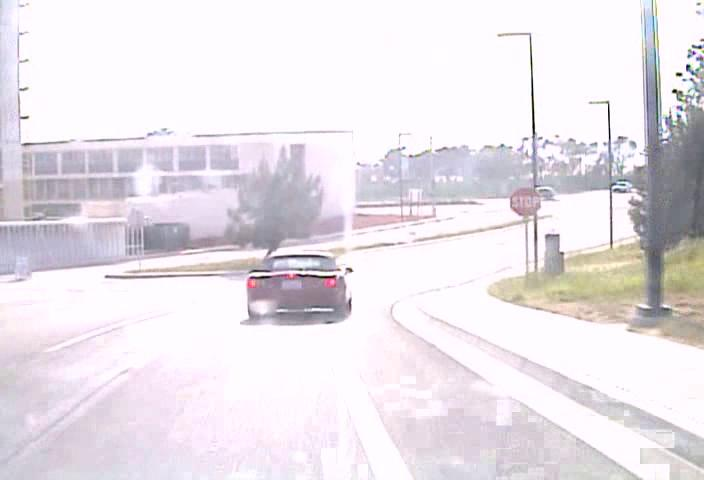stop: (509, 186, 541, 217)
